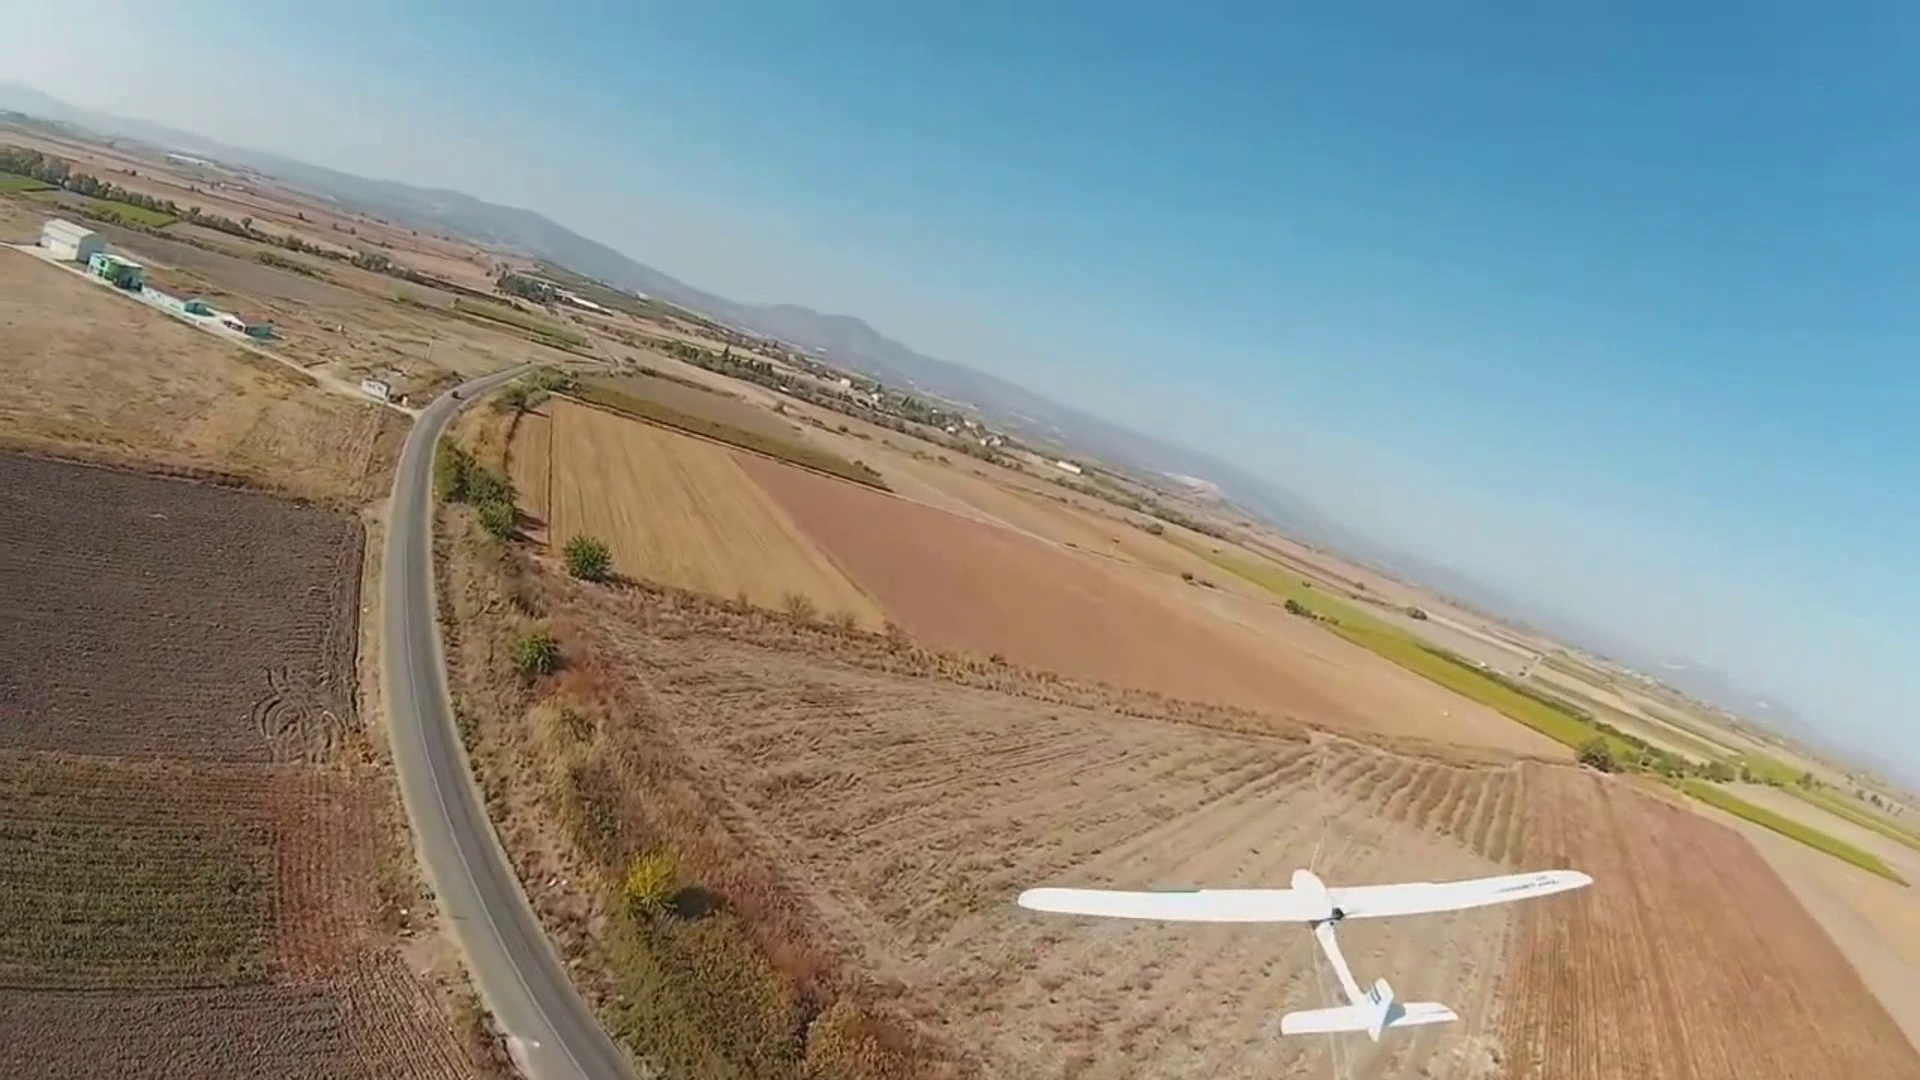airplane: (1017, 866, 1589, 1056)
